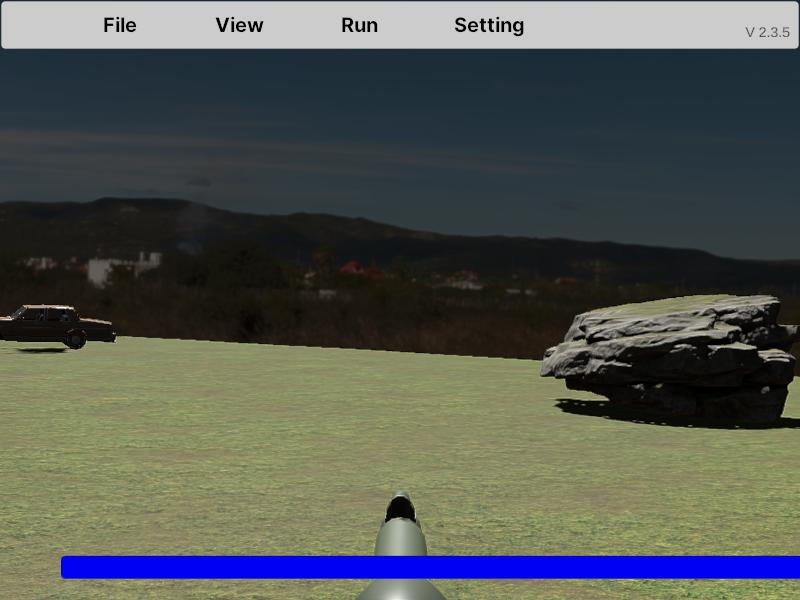car: (0, 304, 116, 350)
